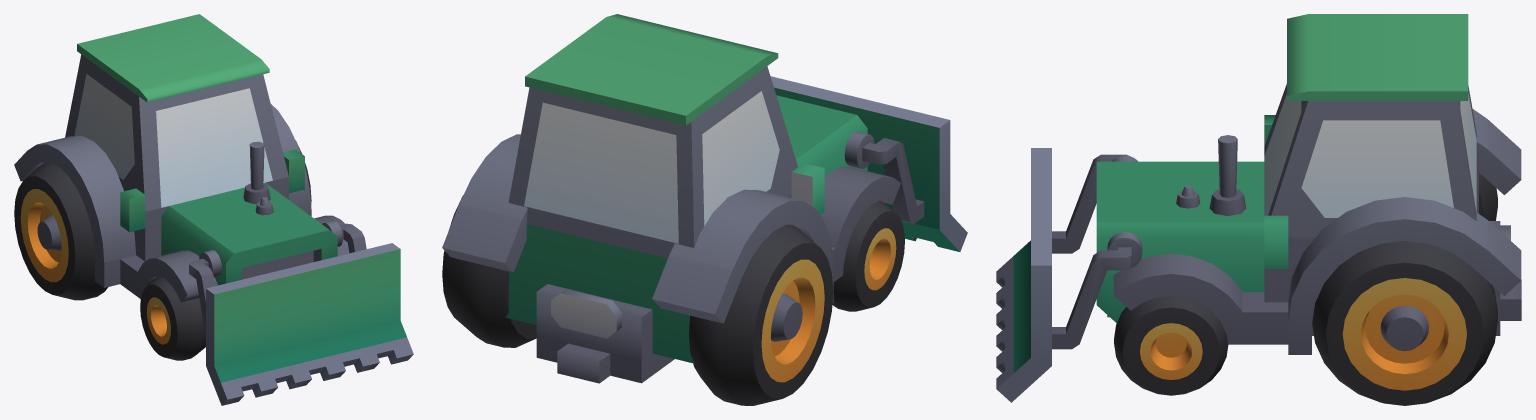
File: tractor-shovel.glb
3 views of the same model, side by side, from view 1: azimuth 30°, elevation 25°; view 2: azimuth 150°, elevation 25°; view 3: azimuth 270°, elevation 25° (orthographic). The views are drawn at different scales.
Parts seen in each view (by area): view 1: body, shovel, wheel-back-right, wheel-front-right; view 2: body, wheel-back-right, shovel, wheel-front-right, wheel-back-left; view 3: body, wheel-back-left, shovel, wheel-front-left, wheel-back-right.
Boxes of the visible parts, <box> form: body: <box>14,14,349,302</box>; shovel: <box>189,220,413,405</box>; wheel-back-right: <box>14,162,108,300</box>; wheel-front-right: <box>140,276,205,360</box>; body: <box>442,14,900,383</box>; wheel-back-right: <box>689,224,833,405</box>; shovel: <box>770,76,967,251</box>; wheel-front-right: <box>832,200,904,311</box>; wheel-back-left: <box>442,195,536,347</box>; body: <box>1096,14,1521,354</box>; wheel-back-left: <box>1312,241,1497,405</box>; shovel: <box>996,148,1142,402</box>; wheel-front-left: <box>1114,295,1228,395</box>; wheel-back-right: <box>1479,172,1497,220</box>.
Bounding box in the file's own units: 1.66 × 1.51 × 2.47.
